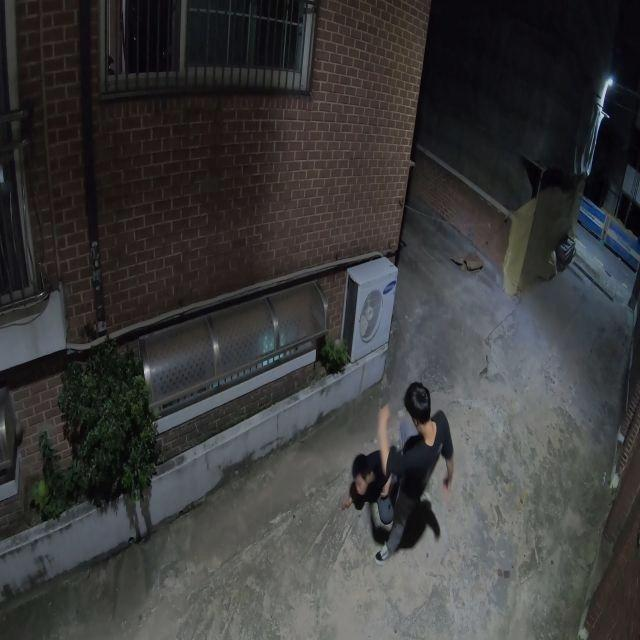fight: (346, 382, 455, 562)
